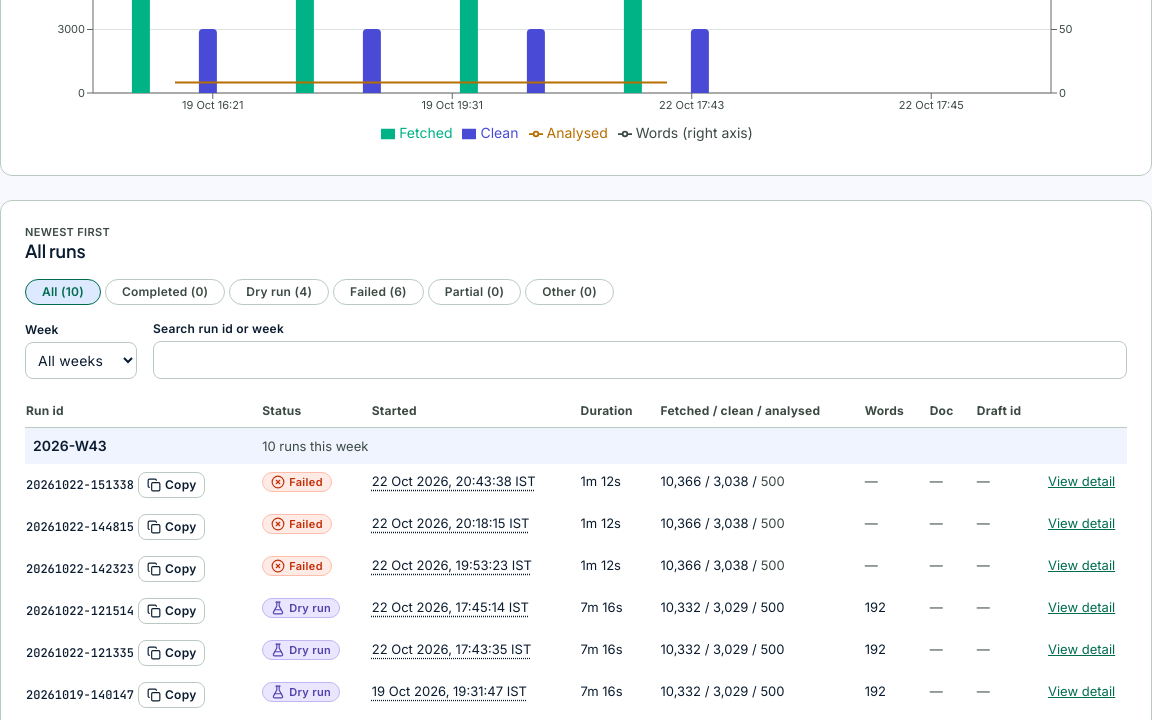
it: runs table › searches by run id
(page scrolled)
Step 1. Type "151338" into the search field labelled "Search run id or week" → (640, 360), box [153,341,1127,379]
(page scrolled)
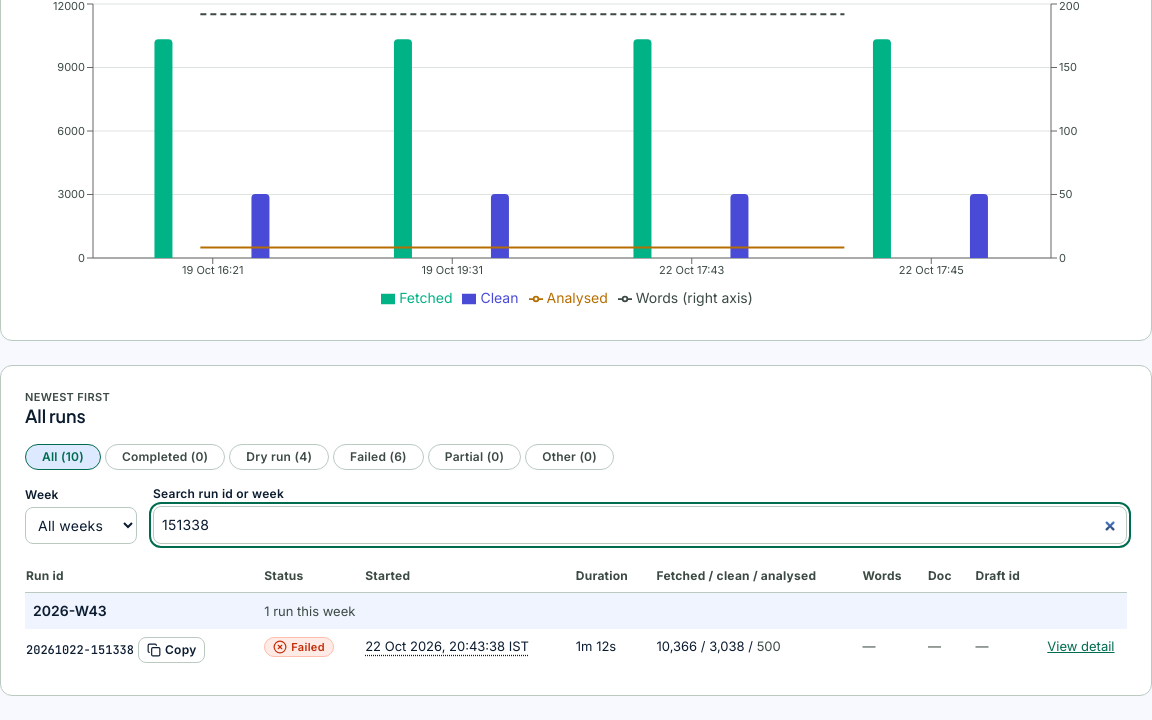
Expected: the table named "Runs" shows "20261022-151338", [26,642,134,658]
Now the number of links "View detail" is 1, box [1047,638,1114,654]
